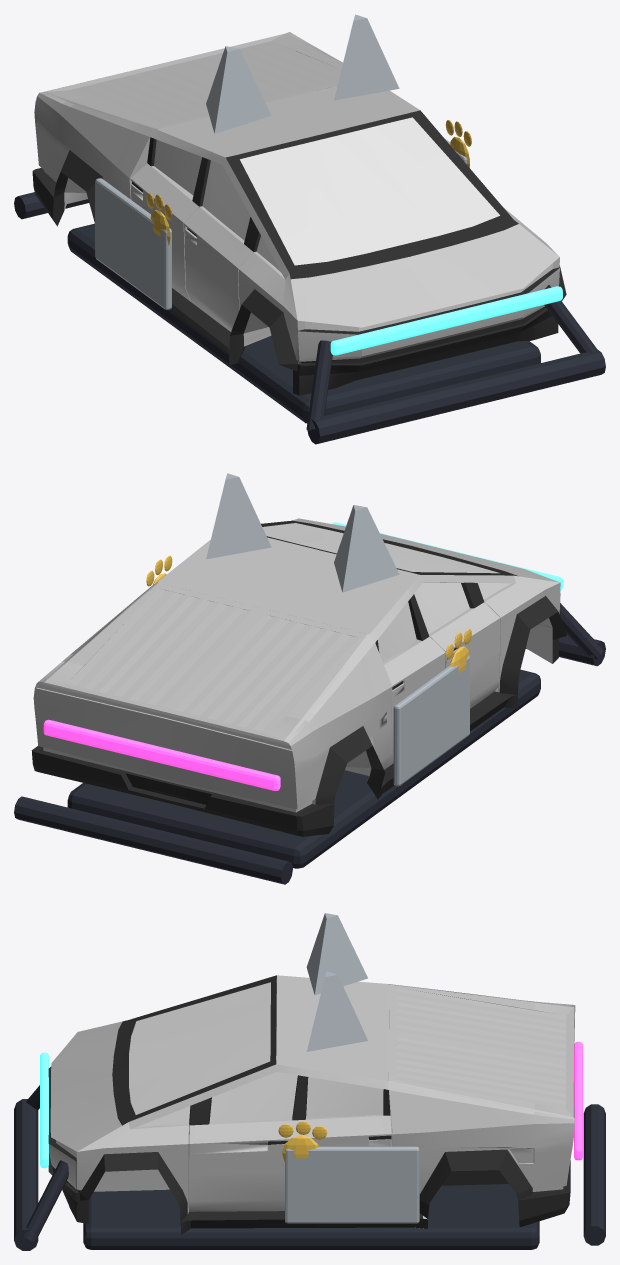
File: cyber-kaki-body-v1.glb
The picture shows the model from 3 angles, top to bottom: view 1: azimuth 30°, elevation 25°; view 2: azimuth 150°, elevation 25°; view 3: azimuth 270°, elevation 25°; orthographic projection. The views are drawn at different scales.
Parts seen in each view (by area): view 1: CyberBody_DamageShell, CyberUnderbodyArmor, CyberFrontBashBar, DamagePanel_Left, CyberFrontLightBar, CyberCatEar_L, CyberCatEar_R, CyberFrontGuard_-1, CyberFrontGuard_1, CyberRearBashBar; view 2: CyberBody_DamageShell, CyberUnderbodyArmor, CyberRearBashBar, DamagePanel_Left, CyberRearLightBar, CyberCatEar_L, CyberCatEar_R, CyberFrontGuard_-1, CyberFrontBashBar; view 3: CyberBody_DamageShell, CyberUnderbodyArmor, DamagePanel_Right, CyberFrontBashBar, CyberRearBashBar, CyberCatEar_R, CyberCatEar_L, CyberFrontGuard_1, CyberRearLightBar, CyberFrontLightBar, KakiPaw_R_0.
Boxes of the visible parts, x1,y1,x2,y2 form: CyberBody_DamageShell: (32, 32, 566, 395); CyberUnderbodyArmor: (67, 223, 540, 423); CyberFrontBashBar: (307, 349, 605, 444); DamagePanel_Left: (95, 178, 171, 309); CyberFrontLightBar: (330, 286, 562, 355); CyberCatEar_L: (206, 46, 271, 133); CyberCatEar_R: (334, 14, 399, 100); CyberFrontGuard_-1: (306, 340, 332, 430); CyberFrontGuard_1: (544, 285, 596, 353); CyberRearBashBar: (14, 192, 89, 219); CyberBody_DamageShell: (31, 518, 566, 836); CyberUnderbodyArmor: (67, 669, 540, 868); CyberRearBashBar: (14, 796, 292, 884); DamagePanel_Left: (393, 655, 469, 786); CyberRearLightBar: (43, 719, 280, 790); CyberCatEar_L: (334, 505, 399, 592); CyberCatEar_R: (206, 473, 271, 559); CyberFrontGuard_-1: (559, 603, 602, 659); CyberFrontBashBar: (525, 634, 605, 666); CyberBody_DamageShell: (48, 975, 575, 1234); CyberUnderbodyArmor: (83, 1184, 539, 1249); DamagePanel_Right: (285, 1146, 419, 1223); CyberFrontBashBar: (14, 1099, 38, 1250); CyberRearBashBar: (583, 1104, 605, 1245); CyberCatEar_R: (306, 971, 367, 1051); CyberCatEar_L: (306, 913, 367, 995); CyberFrontGuard_1: (23, 1160, 68, 1242); CyberRearLightBar: (574, 1041, 582, 1160); CyberFrontLightBar: (40, 1052, 48, 1168); KakiPaw_R_0: (282, 1135, 318, 1161).
Bounding box in the file's own units: 3.25 × 2.75 × 5.81.
